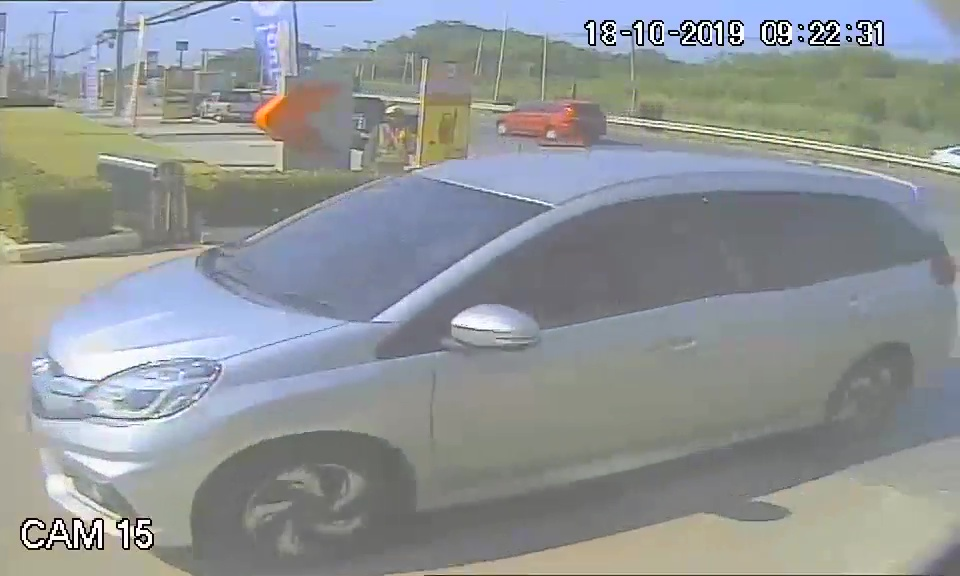pickup: (30, 144, 952, 562)
